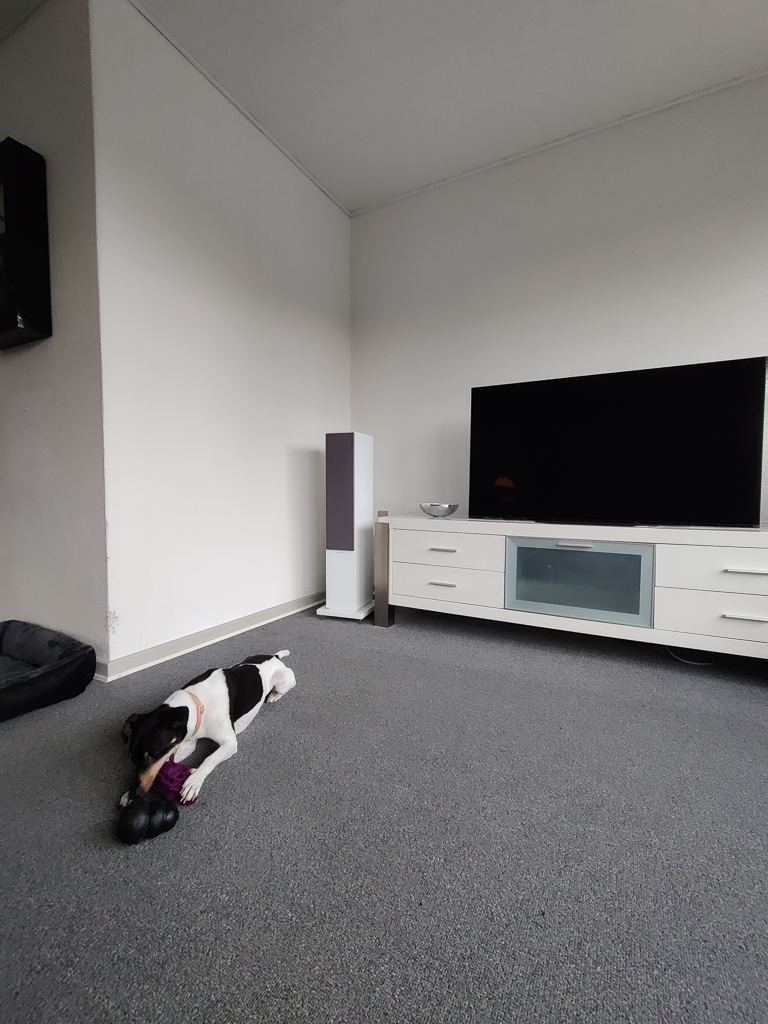Dog: (105, 641, 314, 820)
